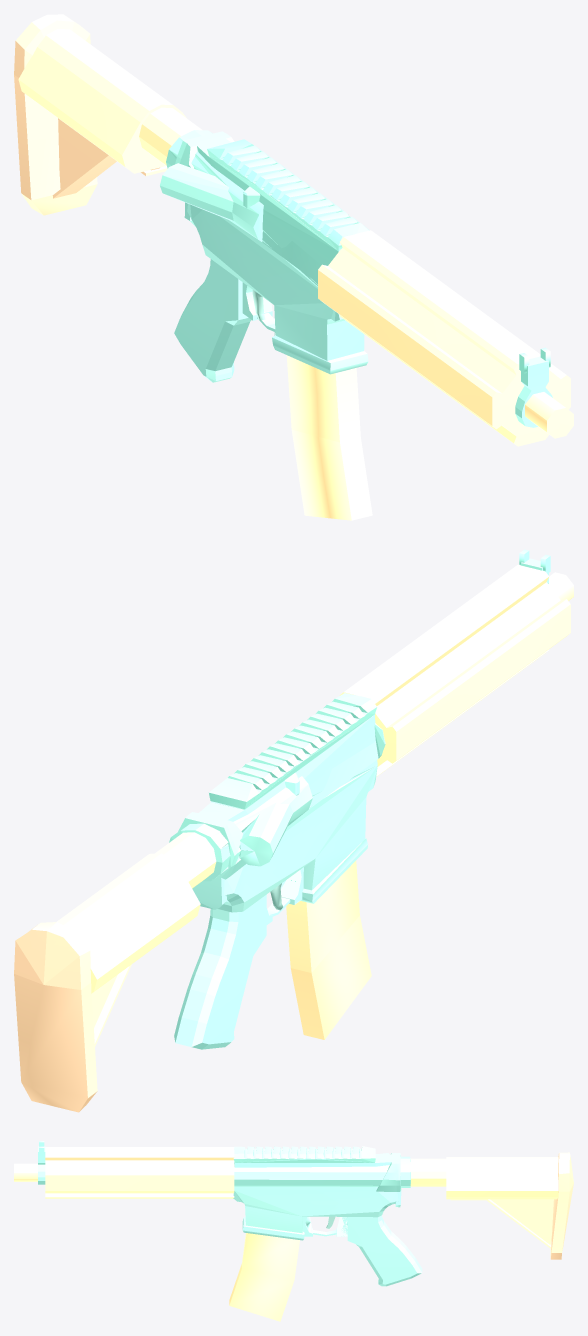
File: Weapon_9.fbx
3 views of the same model, one above another, from view 1: azimuth 30°, elevation 25°; view 2: azimuth 150°, elevation 25°; view 3: azimuth 270°, elevation 25° (orthographic). The views are drawn at different scales.
Visible parts, largest first — view 1: M4_12Mesh; view 2: M4_12Mesh; view 3: M4_12Mesh.
Boxes of the visible parts, x1=… form: M4_12Mesh: x1=14, y1=14, x2=573, y2=520; M4_12Mesh: x1=14, y1=549, x2=573, y2=1112; M4_12Mesh: x1=14, y1=1141, x2=573, y2=1321.
Size of the model in its own units: 46.45 by 149 by 433.
